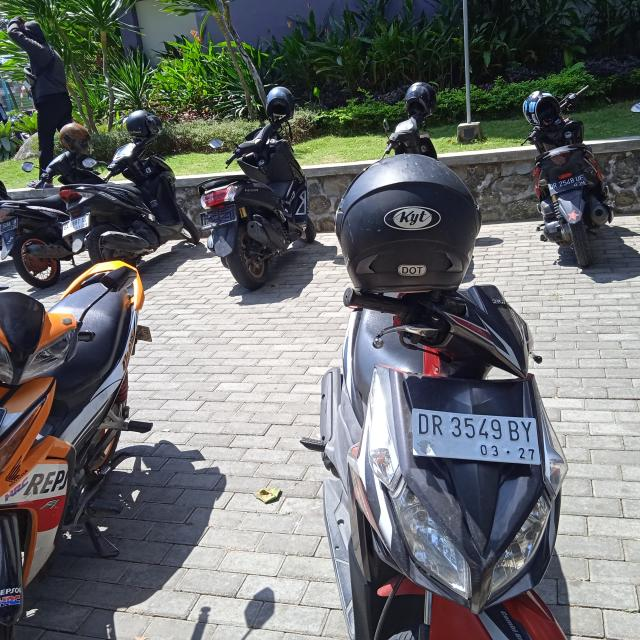plate: (407, 404, 548, 471), (547, 172, 586, 196)
